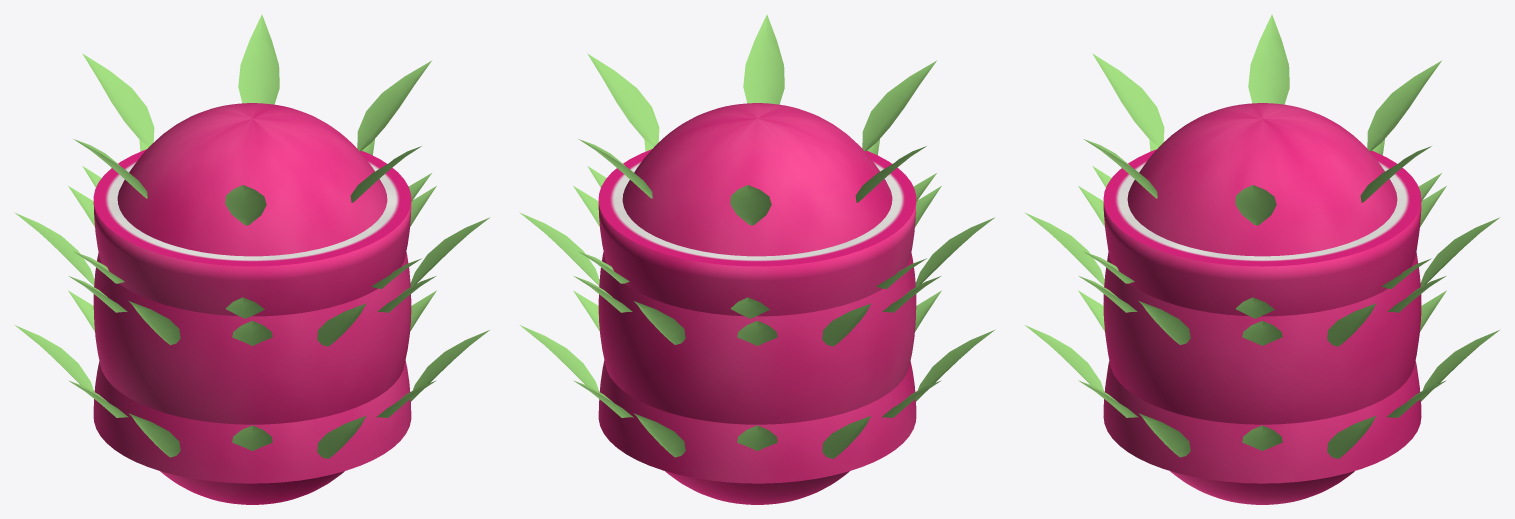
Rendered from dragonfruit.glb.
3 renders of one model, left to right at view 1: azimuth 30°, elevation 25°; view 2: azimuth 150°, elevation 25°; view 3: azimuth 270°, elevation 25°, orthographic.
Parts seen in each view (by area): view 1: whole, bot, top; view 2: whole, bot, top; view 3: whole, bot, top.
Boxes of the visible parts, bbox=[...] form: whole: bbox=[14, 14, 489, 504]; bot: bbox=[68, 149, 436, 345]; top: bbox=[15, 166, 490, 483]; whole: bbox=[519, 14, 994, 504]; bot: bbox=[573, 149, 941, 345]; top: bbox=[520, 166, 995, 483]; whole: bbox=[1024, 14, 1499, 504]; bot: bbox=[1078, 149, 1446, 345]; top: bbox=[1025, 166, 1500, 483].
Size of the model in its own units: 0.7514 by 0.7575 by 0.8398.
3 materials, 2 textured.
